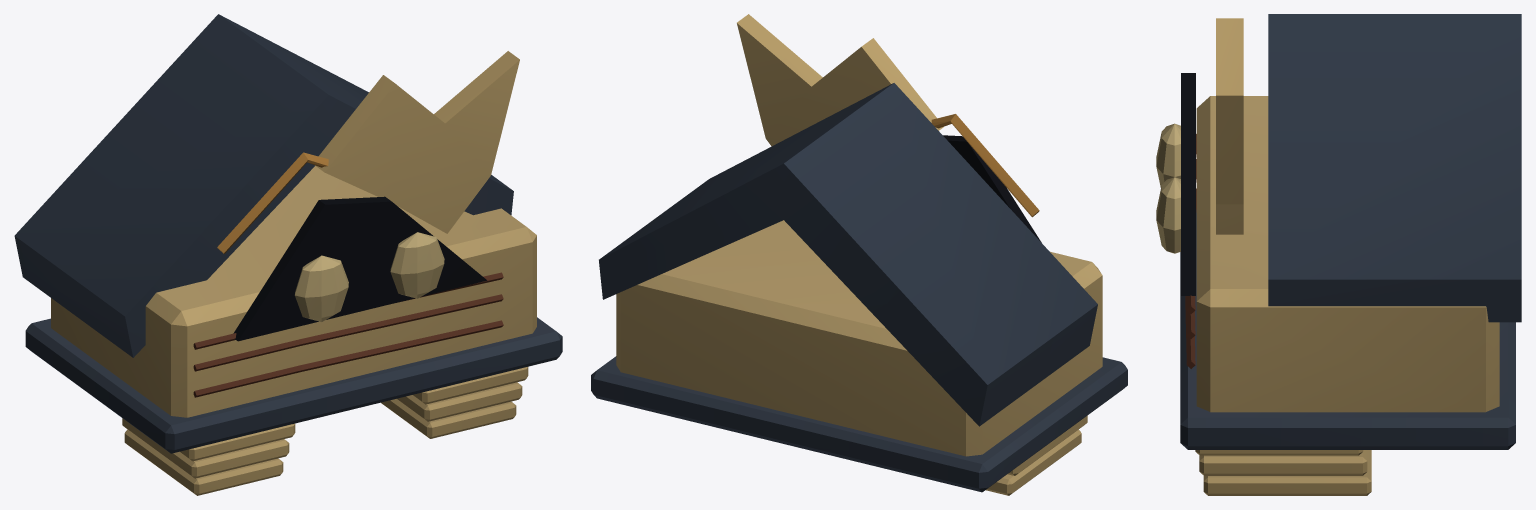
Rendered from ashen_book.fbx.
3 views of the same model, side by side, from view 1: azimuth 30°, elevation 25°; view 2: azimuth 150°, elevation 25°; view 3: azimuth 270°, elevation 25° (orthographic). The views are drawn at different scales.
Visible parts, largest first — view 1: ashen_book; view 2: ashen_book; view 3: ashen_book.
Boxes of the visible parts, x1,y1,x2,y2 form: ashen_book: [14, 14, 562, 495]; ashen_book: [591, 14, 1127, 495]; ashen_book: [1156, 14, 1521, 495].
Bounding box in the file's own units: 1.93 × 1.66 × 1.33.
